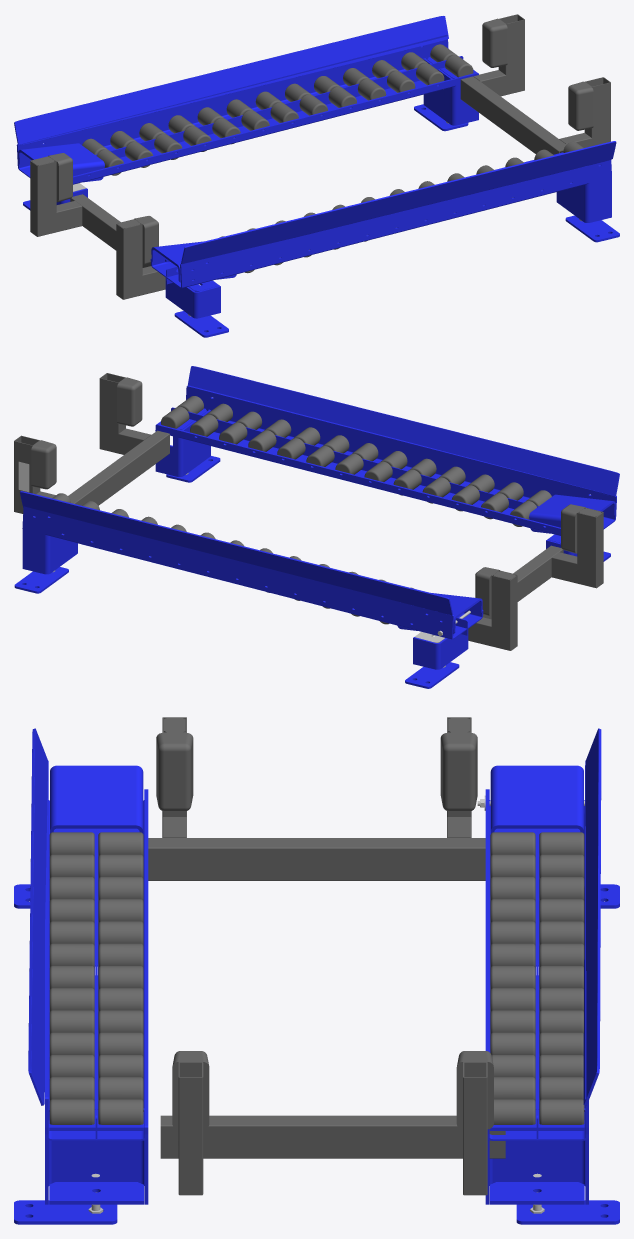
The model's file is SP02_PalletFeeder.fbx.
3 renders of one model, top to bottom at view 1: azimuth 30°, elevation 25°; view 2: azimuth 150°, elevation 25°; view 3: azimuth 270°, elevation 25°, orthographic. The views are drawn at different scales.
Parts seen in each view (by area): view 1: RoundedCubePro, Arkusz_Blachy_Cze_ci6_2, Arkusz_Blachy_Cze_ci6_3, RoundedCubePro__1_, Cze_æ87_4__1_, Arkusz_Blachy_Cze_ci82_3, Cze_æ87_1, Cze_æ87_3, Arkusz_Blachy_Cze_ci93_2, Arkusz_Blachy_Cze_ci82_2, Arkusz_Blachy_Cze_ci111_1, Arkusz_Blachy_Cze_ci82 (+15 smaller); view 2: Arkusz_Blachy_Cze_ci6_3, Arkusz_Blachy_Cze_ci6_2, RoundedCubePro__1_, RoundedCubePro, Cze_æ87_4__1_, Arkusz_Blachy_Cze_ci82_2, Cze_æ87_1, Cze_æ87_3, Arkusz_Blachy_Cze_ci82_3, Arkusz_Blachy_Cze_ci93_3, Arkusz_Blachy_Cze_ci111, Arkusz_Blachy_Cze_ci82_1 (+15 smaller); view 3: Cze_æ87_4, Cze_æ87_4__1_, Arkusz_Blachy_Cze_ci6_3, Arkusz_Blachy_Cze_ci111, Arkusz_Blachy_Cze_ci111_1, RoundedCubePro, RoundedCubePro__1_, Arkusz_Blachy_Cze_ci6_2, Arkusz_Blachy_Cze_ci82_3, Arkusz_Blachy_Cze_ci82_2, Cze_æ87_3__1_, Cze_æ87_1__1_ (+62 smaller).
Boxes of the visible parts, x1=… form: RoundedCubePro: x1=14, y1=16, x2=448, y2=145; Arkusz_Blachy_Cze_ci6_2: x1=16, y1=34, x2=478, y2=184; Arkusz_Blachy_Cze_ci6_3: x1=150, y1=152, x2=611, y2=288; RoundedCubePro__1_: x1=181, y1=141, x2=616, y2=263; Cze_æ87_4__1_: x1=460, y1=76, x2=566, y2=154; Arkusz_Blachy_Cze_ci82_3: x1=556, y1=171, x2=611, y2=222; Cze_æ87_1: x1=116, y1=219, x2=142, y2=299; Cze_æ87_3: x1=30, y1=156, x2=56, y2=236; Arkusz_Blachy_Cze_ci93_2: x1=95, y1=56, x2=463, y2=157; Arkusz_Blachy_Cze_ci82_2: x1=423, y1=56, x2=478, y2=125; Arkusz_Blachy_Cze_ci111_1: x1=18, y1=143, x2=104, y2=182; Arkusz_Blachy_Cze_ci82: x1=165, y1=278, x2=220, y2=318; Arkusz_Blachy_Cze_ci6_3: x1=155, y1=385, x2=616, y2=535; Arkusz_Blachy_Cze_ci6_2: x1=22, y1=506, x2=483, y2=639; RoundedCubePro__1_: x1=187, y1=366, x2=619, y2=496; RoundedCubePro: x1=20, y1=491, x2=452, y2=615; Cze_æ87_4__1_: x1=68, y1=430, x2=169, y2=505; Arkusz_Blachy_Cze_ci82_2: x1=22, y1=525, x2=77, y2=574; Cze_æ87_1: x1=577, y1=507, x2=603, y2=588; Cze_æ87_3: x1=491, y1=570, x2=517, y2=650; Arkusz_Blachy_Cze_ci82_3: x1=155, y1=409, x2=210, y2=476; Arkusz_Blachy_Cze_ci93_3: x1=171, y1=407, x2=538, y2=509; Arkusz_Blachy_Cze_ci111: x1=529, y1=494, x2=615, y2=533; Arkusz_Blachy_Cze_ci82_1: x1=413, y1=629, x2=468, y2=669; Cze_æ87_4: x1=148, y1=838, x2=485, y2=880; Cze_æ87_4__1_: x1=160, y1=1115, x2=505, y2=1158; Arkusz_Blachy_Cze_ci6_3: x1=45, y1=760, x2=148, y2=1140; Arkusz_Blachy_Cze_ci111: x1=50, y1=765, x2=143, y2=833; Arkusz_Blachy_Cze_ci111_1: x1=490, y1=765, x2=583, y2=833; RoundedCubePro: x1=583, y1=728, x2=601, y2=1105; RoundedCubePro__1_: x1=28, y1=728, x2=47, y2=1105; Arkusz_Blachy_Cze_ci6_2: x1=485, y1=761, x2=588, y2=1140; Arkusz_Blachy_Cze_ci82_3: x1=45, y1=1108, x2=148, y2=1204; Arkusz_Blachy_Cze_ci82_2: x1=485, y1=1108, x2=588, y2=1204; Cze_æ87_3__1_: x1=178, y1=1062, x2=203, y2=1195; Cze_æ87_1__1_: x1=463, y1=1062, x2=487, y2=1195.
Bounding box in the file's own units: 183 × 38.31 × 118.
